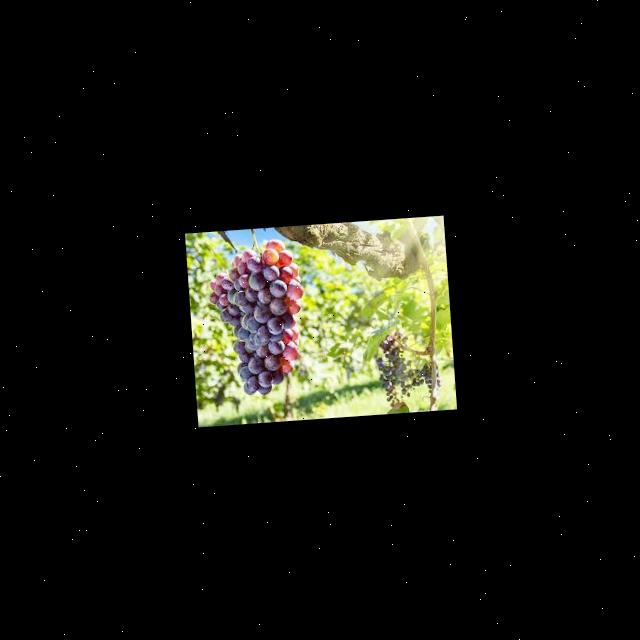grape: (203, 236, 310, 397), (372, 326, 442, 409)
